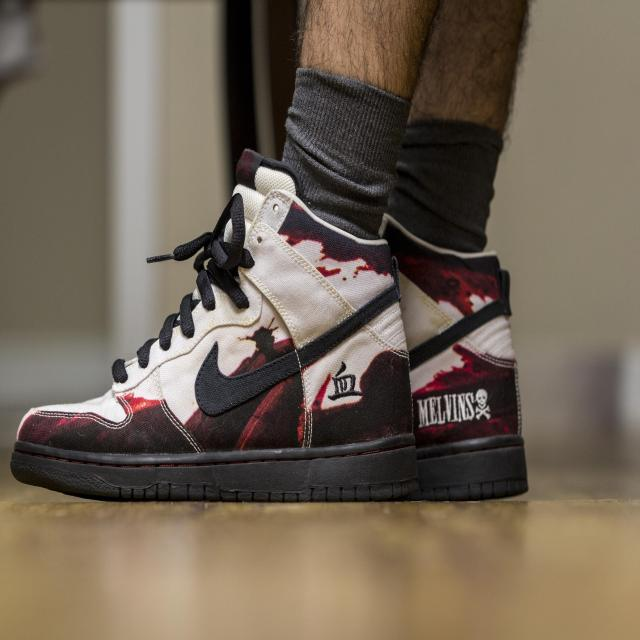shoe: (8, 146, 530, 507)
